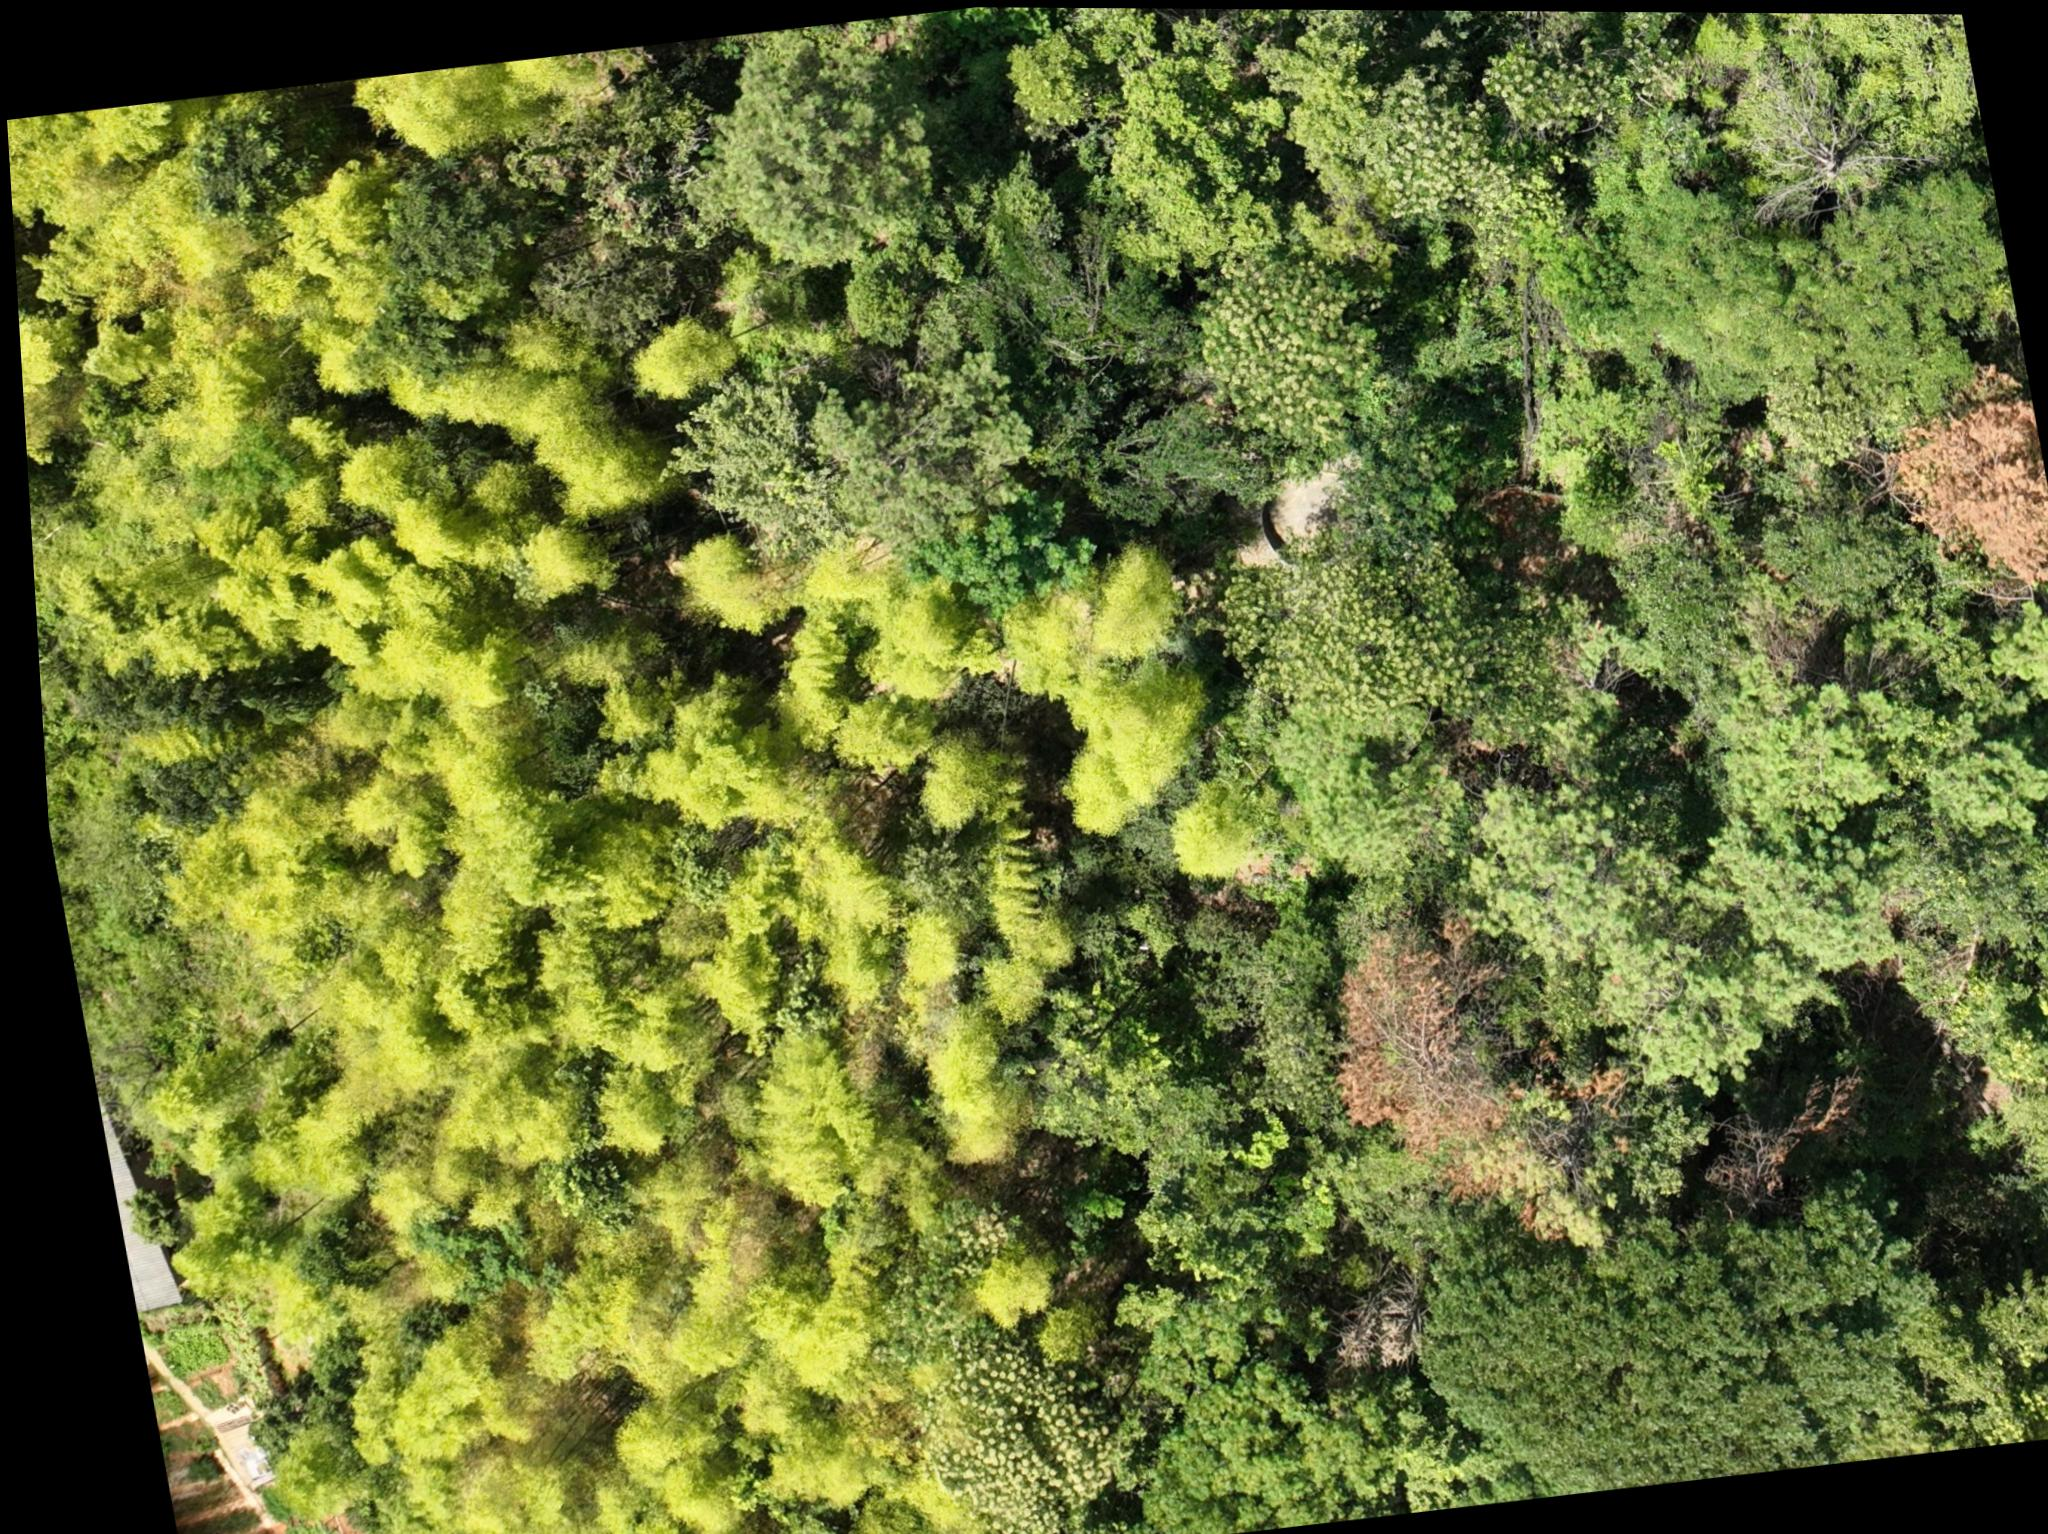heavy: (1286, 898, 1545, 1215), (1850, 351, 2048, 606), (1679, 1067, 1864, 1197), (1304, 1275, 1416, 1374)
